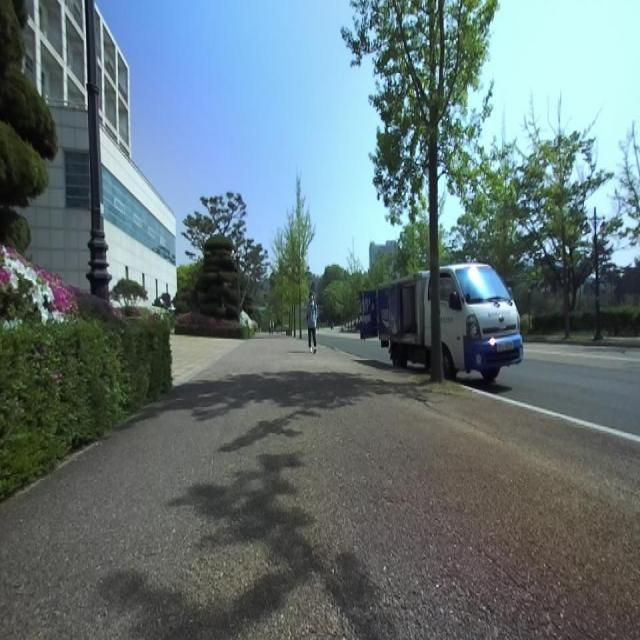sidewalk: (0, 335, 640, 638)
